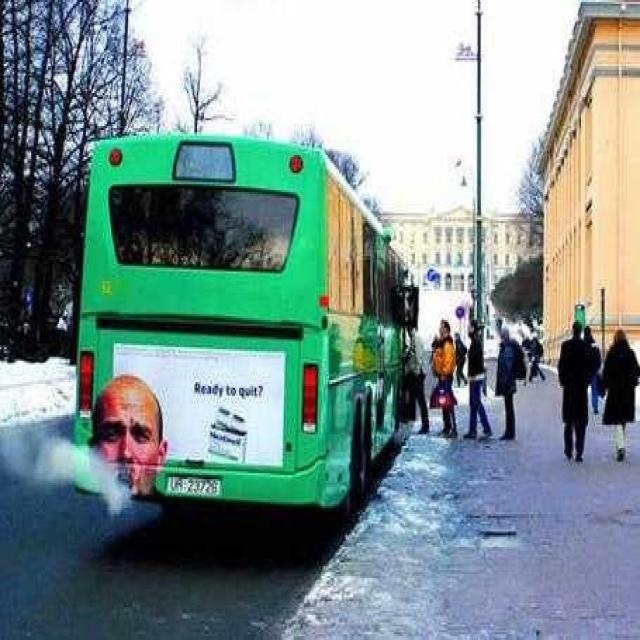Bus: (78, 131, 424, 522)
